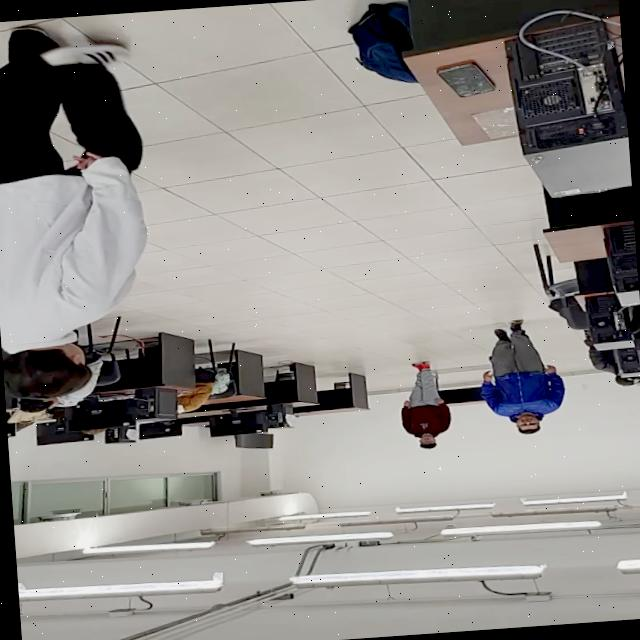Persona: (0, 16, 165, 402), (473, 316, 567, 437), (395, 359, 454, 452)
